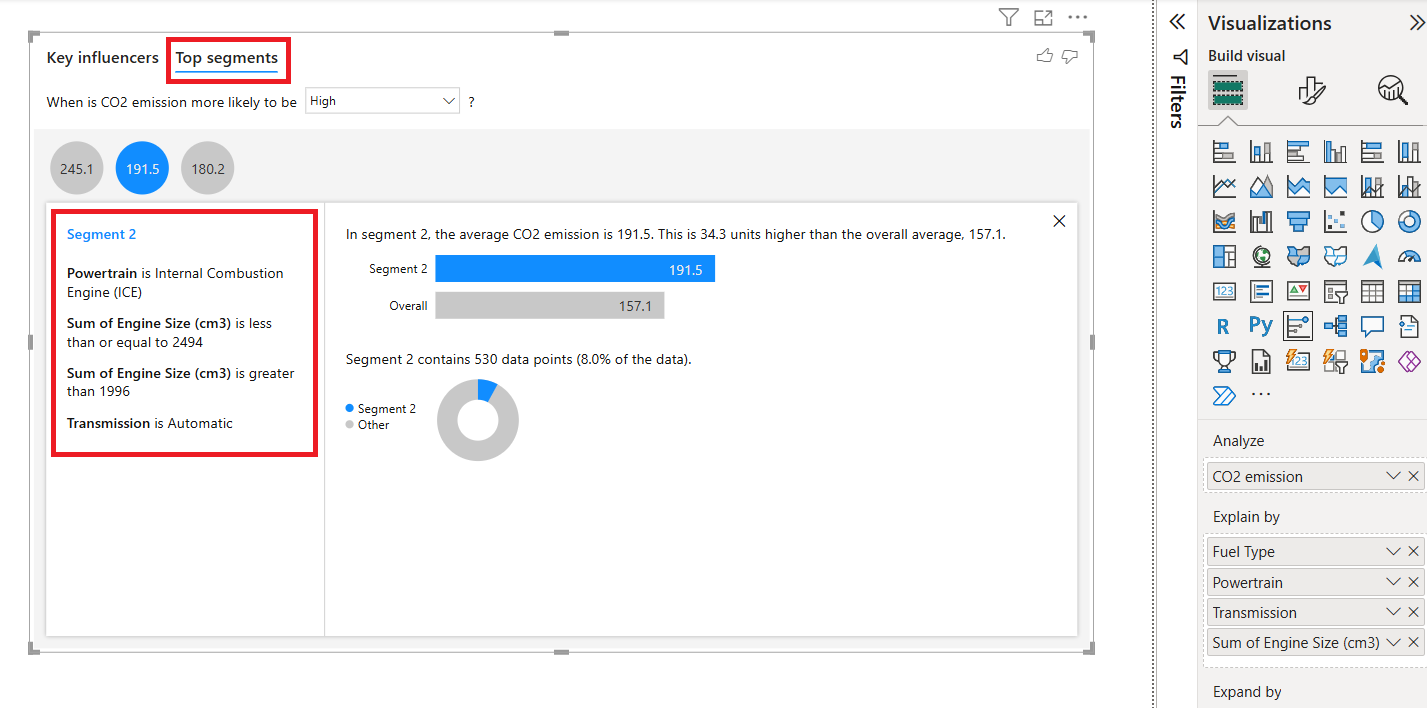

What the dashboard file says about the page in this screenshot:
{"tool":"powerbi","page":{"name":"Key Influencers","canvas":[1280,720],"ordinal":0},"visuals":[{"type":"keyDriversVisual","fields":{"Target":["Vehicles.CO2 emission"],"ExplainBy":["Vehicles.Fuel Type","Vehicles.Powertrain","Vehicles.Transmission","Sum(Vehicles.Engine Size (cm3))"]},"box":[180.4,33.4,1043,608],"z":0}]}

Visuals, with their boxes on the page's 1280x720 design canvas (x1, y1, x2, y2). These are canvas units, not pixel positions in the 1427x708 screenshot, which may show the page scaled, cropped or inside an application window:
keyDriversVisual - Vehicles.CO2 emission x Vehicles.Fuel Type: (180,33,1223,641)
